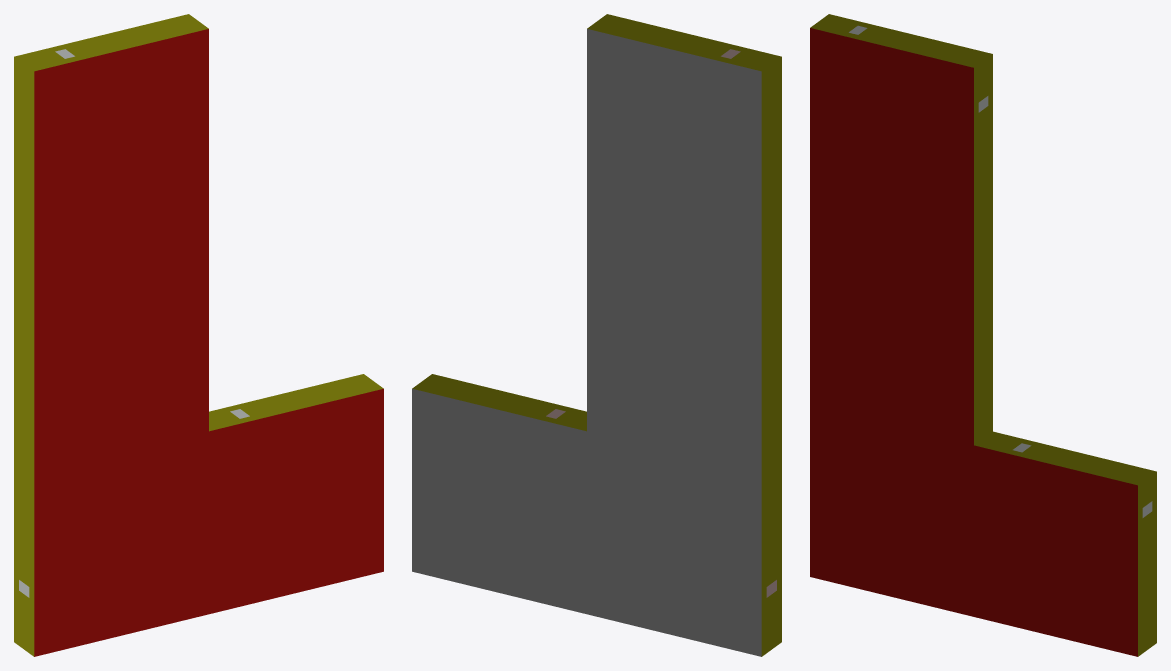
File: idf.obj
3 renders of one model, left to right at view 1: azimuth 30°, elevation 25°; view 2: azimuth 150°, elevation 25°; view 3: azimuth 330°, elevation 25°, orthographic. The views are drawn at different scales.
Bounding box in the file's own units: 30.48 × 48.77 × 3.05.
